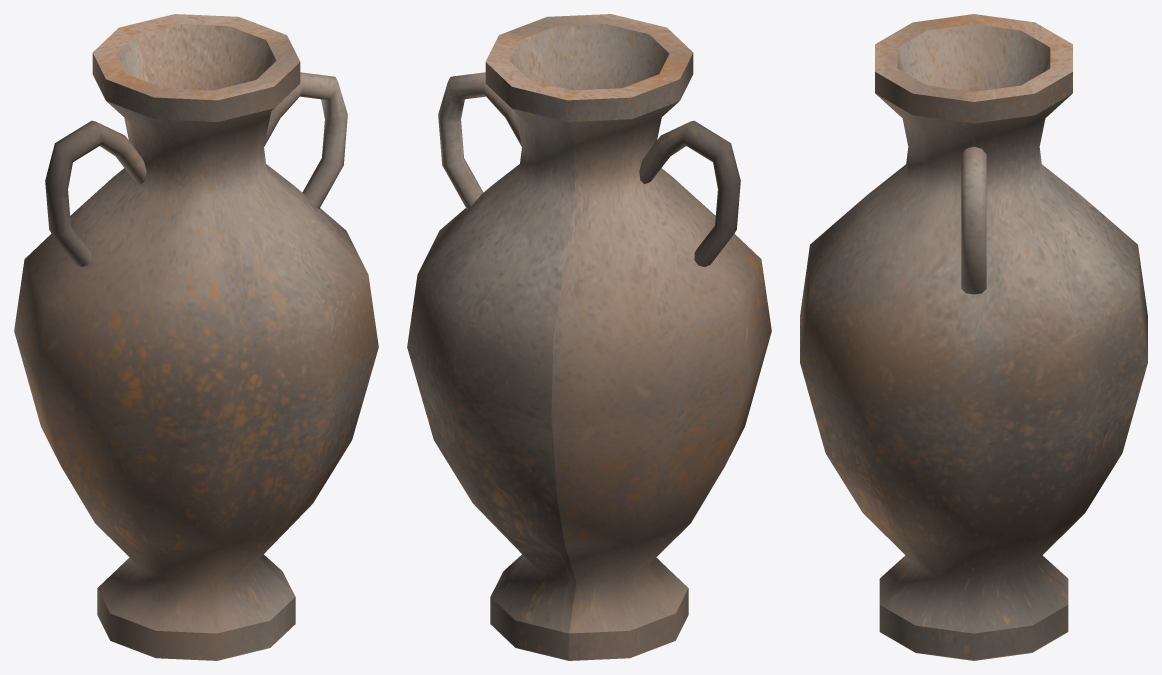
File: PotTall.fbx
3 renders of one model, left to right at view 1: azimuth 30°, elevation 25°; view 2: azimuth 150°, elevation 25°; view 3: azimuth 270°, elevation 25°, orthographic.
Visible parts, largest first — view 1: Tall; view 2: Tall; view 3: Tall.
Part boxes in pixels (box(x1,y1,x2,y2)): Tall: box(14, 14, 378, 660); Tall: box(407, 14, 771, 660); Tall: box(800, 14, 1147, 660).
Size of the model in its own units: 1.38 by 2.33 by 1.31.
